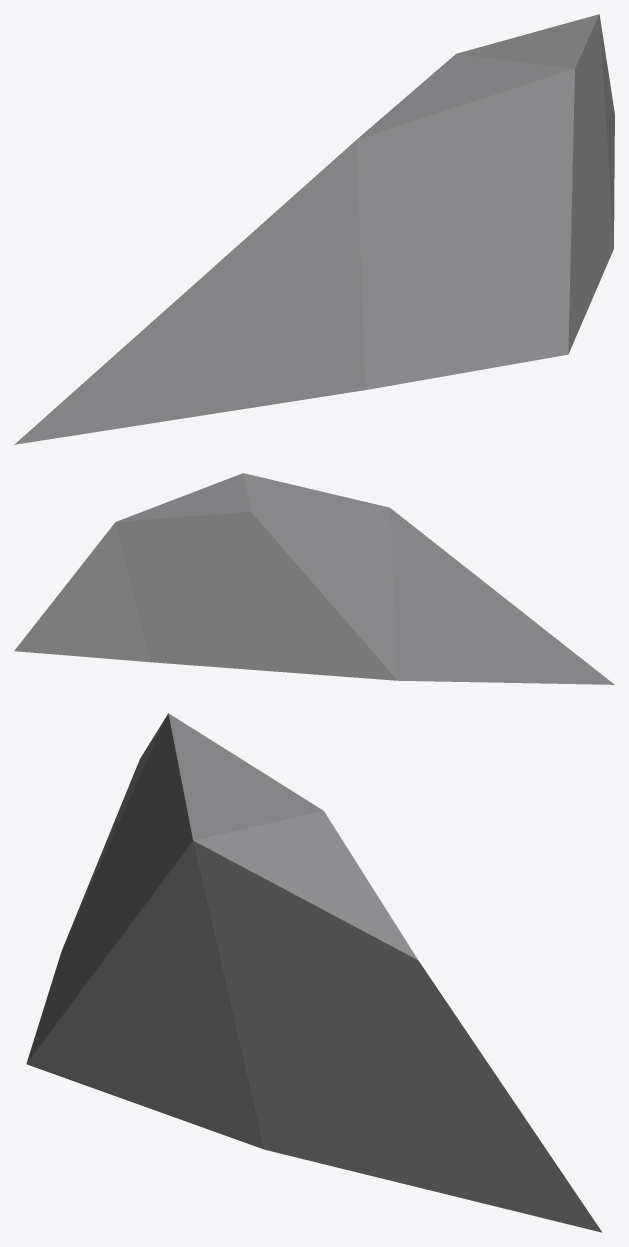
File: Rock_10.glb
The picture shows the model from 3 angles, top to bottom: view 1: azimuth 30°, elevation 25°; view 2: azimuth 150°, elevation 25°; view 3: azimuth 270°, elevation 25°; orthographic projection. The views are drawn at different scales.
Visible parts, largest first — view 1: Rock_10; view 2: Rock_10; view 3: Rock_10.
Boxes of the visible parts, x1,y1,x2,y2 form: Rock_10: (14, 14, 614, 444); Rock_10: (14, 473, 614, 684); Rock_10: (26, 713, 602, 1232).
Size of what is drawn, in the model's own units: 1.24 by 0.328 by 0.6385.
Materials: 1 (1 with a texture image).
